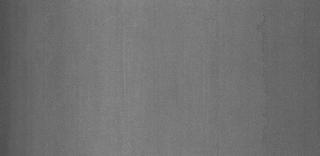silk spot: (254, 14, 290, 152)
